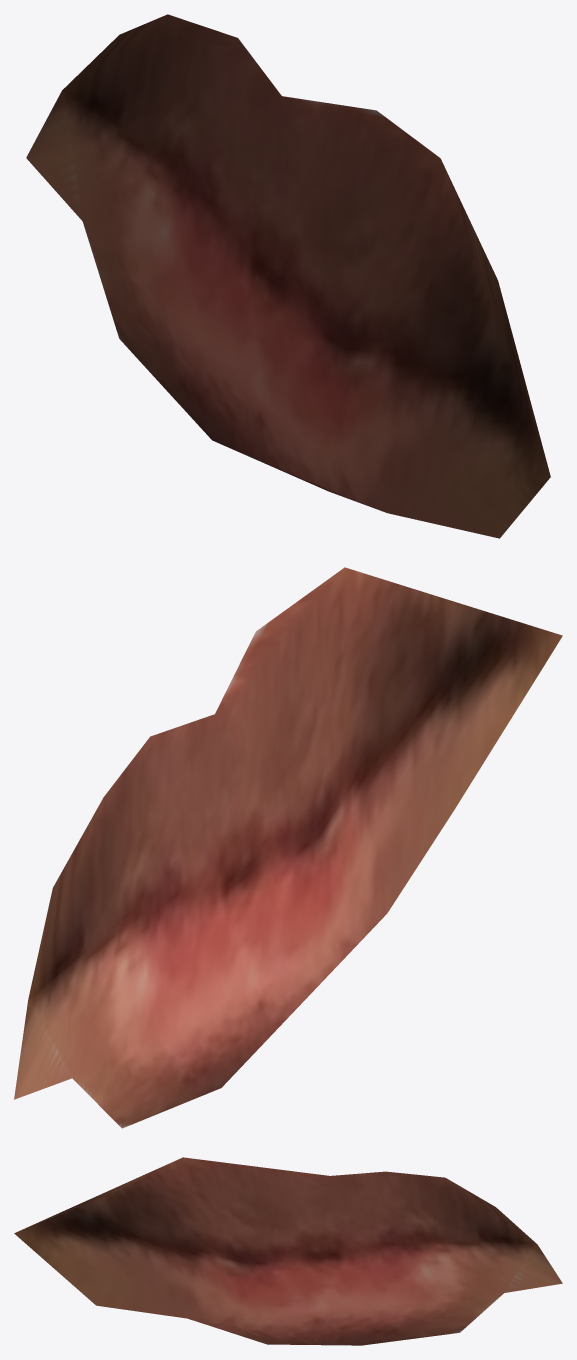
Rendered from mouth.glb.
3 views of the same model, one above another, from view 1: azimuth 30°, elevation 25°; view 2: azimuth 150°, elevation 25°; view 3: azimuth 270°, elevation 25° (orthographic). The views are drawn at different scales.
Parts seen in each view (by area): view 1: 平面.003; view 2: 平面.003; view 3: 平面.003.
Part boxes in pixels (<box>): 平面.003: <box>26,14,550,538</box>; 平面.003: <box>14,567,562,1128</box>; 平面.003: <box>14,1157,562,1345</box>.
Bounding box in the file's own units: 0.0038 × 0.0199 × 0.0494.
Materials: 1 (1 with a texture image).
